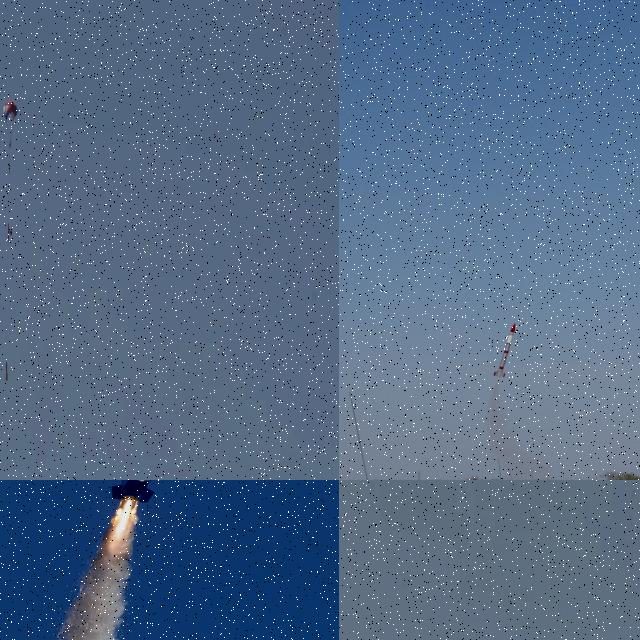Rocket: (493, 322, 516, 378), (110, 480, 159, 503), (5, 362, 9, 382)
